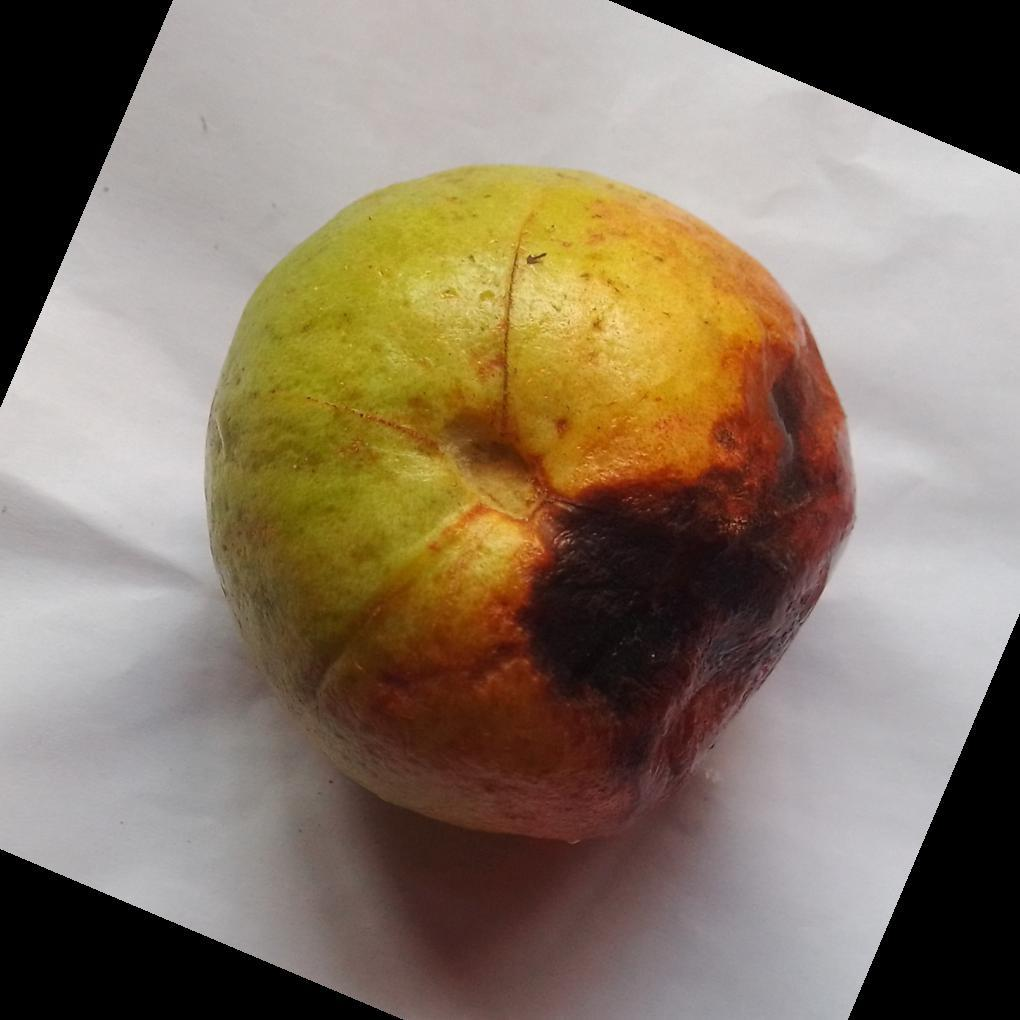FreshOrange: (200, 164, 858, 850)
